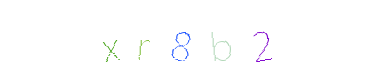2: (223, 0, 303, 80)
8: (152, 0, 232, 80)
B: (154, 0, 234, 80)
R: (141, 0, 221, 80)
X: (81, 0, 161, 80)
